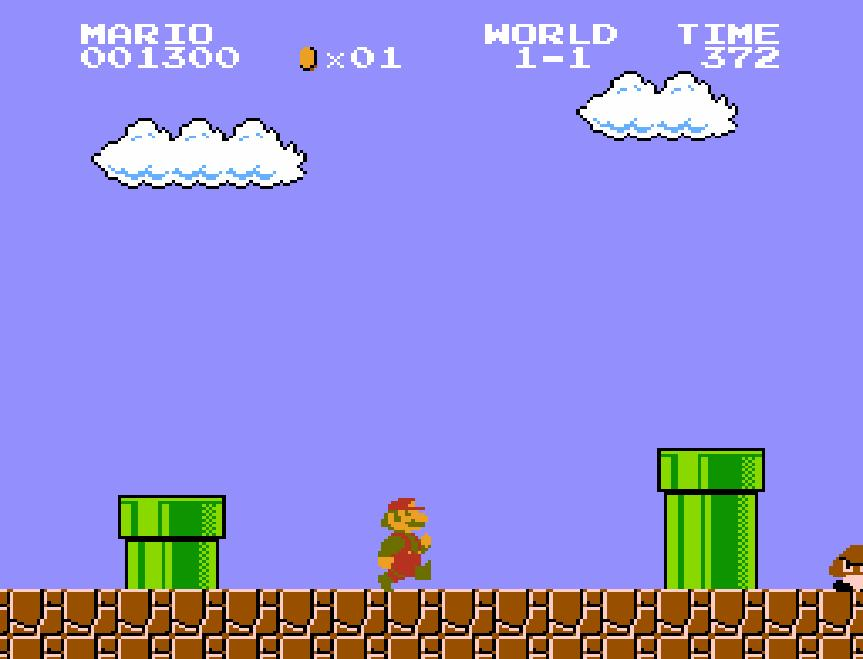big_mario: (376, 496, 434, 594)
